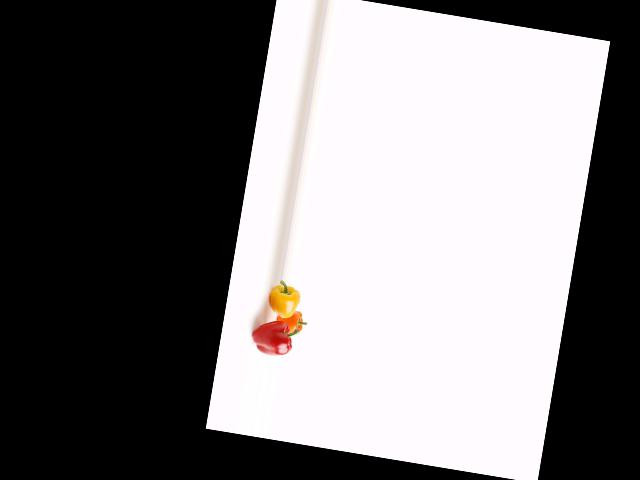bell_pepper: (245, 314, 304, 360)
